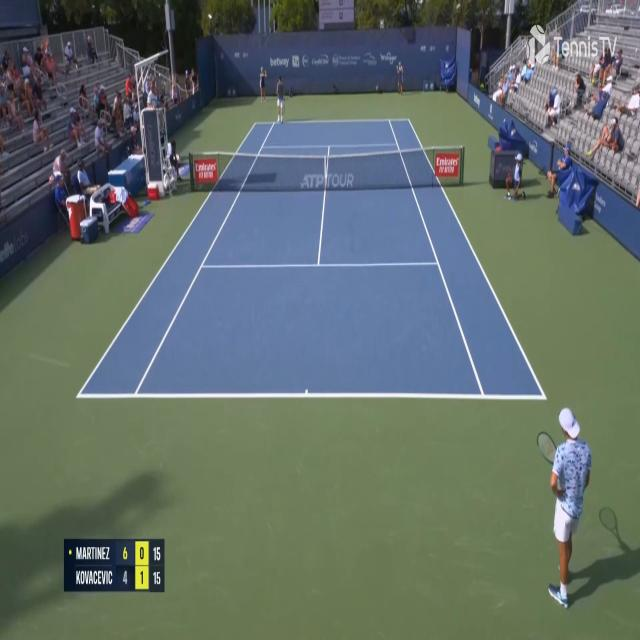tennis-player: (540, 395, 595, 612)
